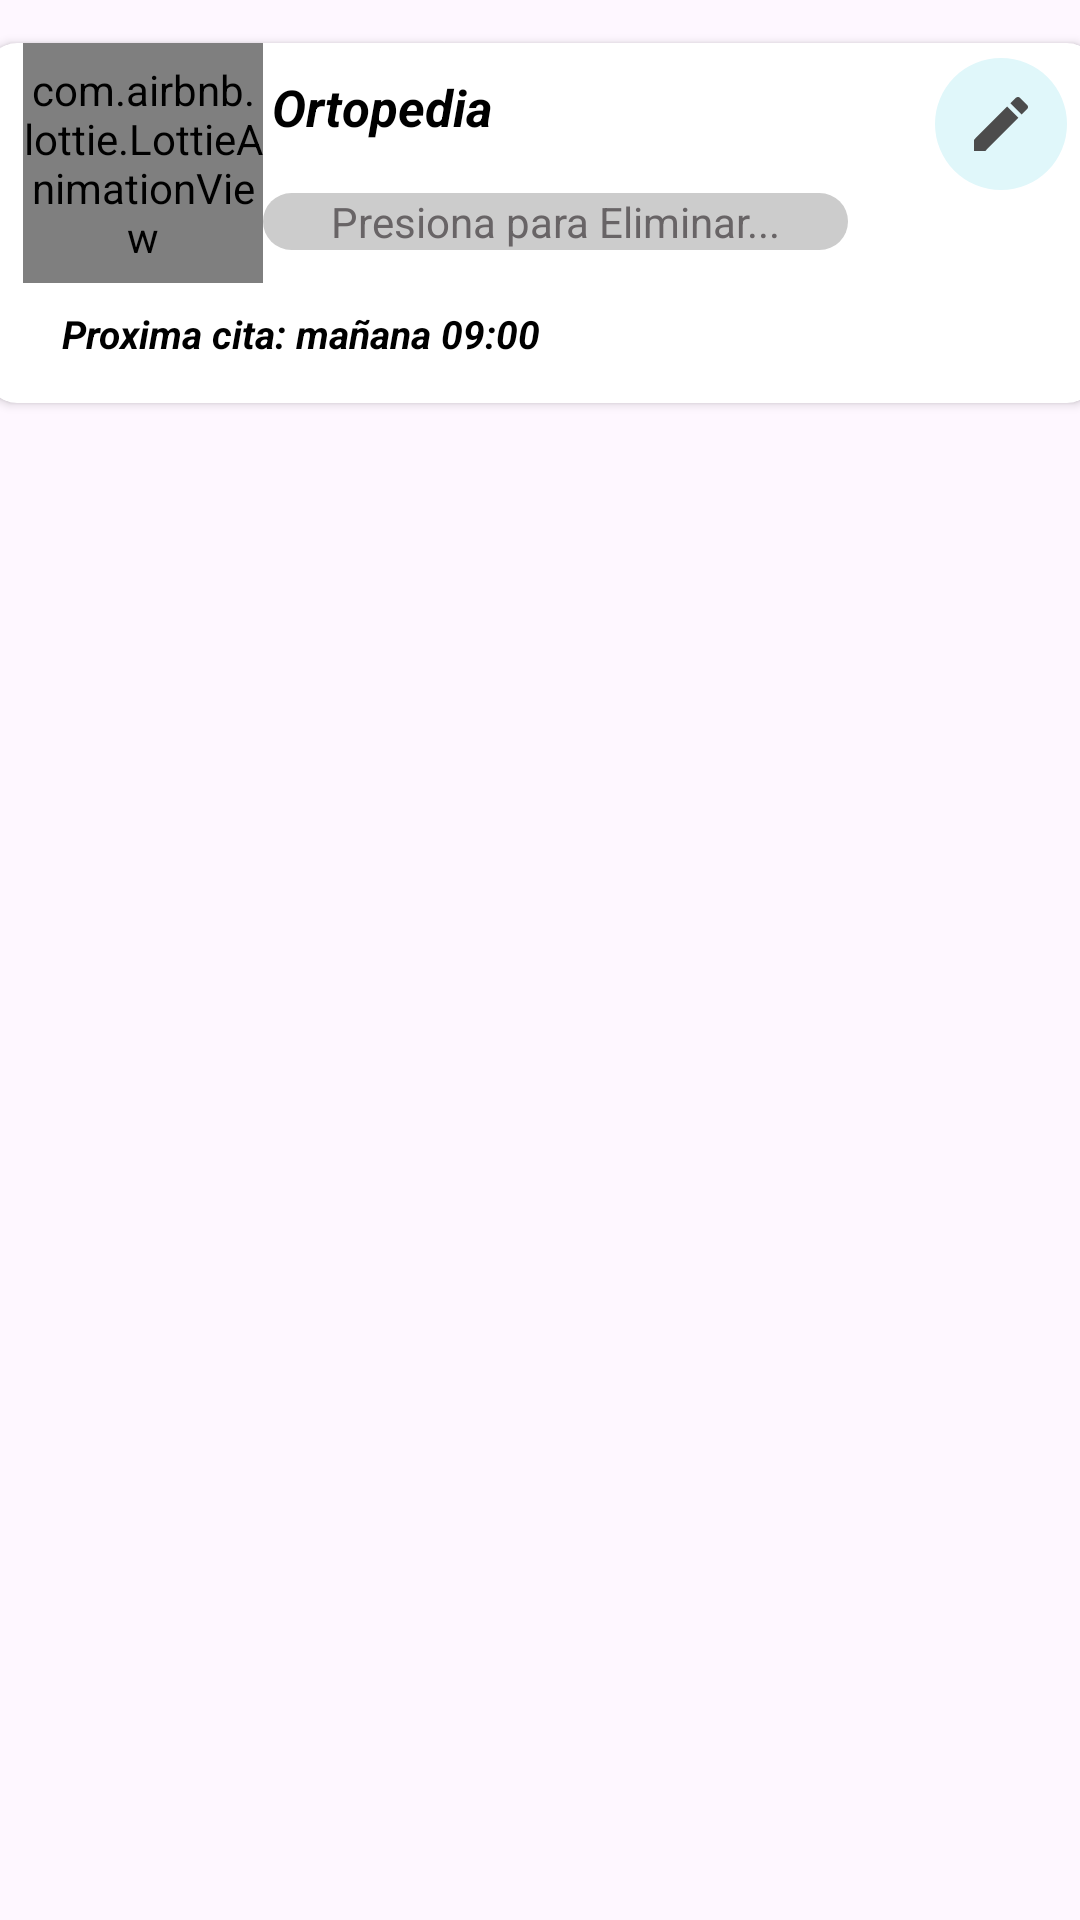

Icons on this 1080*1920 Android screen, each with its box as bbox(x1, y1, x2, y2):
editar: bbox(935, 58, 1067, 190)
